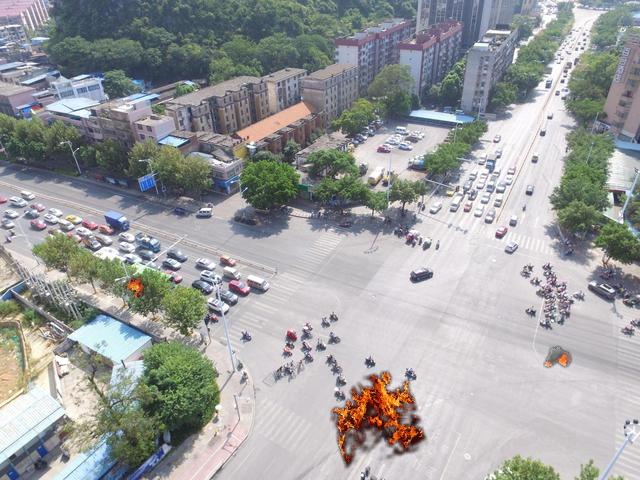fire: (329, 369, 427, 469), (120, 274, 145, 299), (544, 345, 571, 368)
